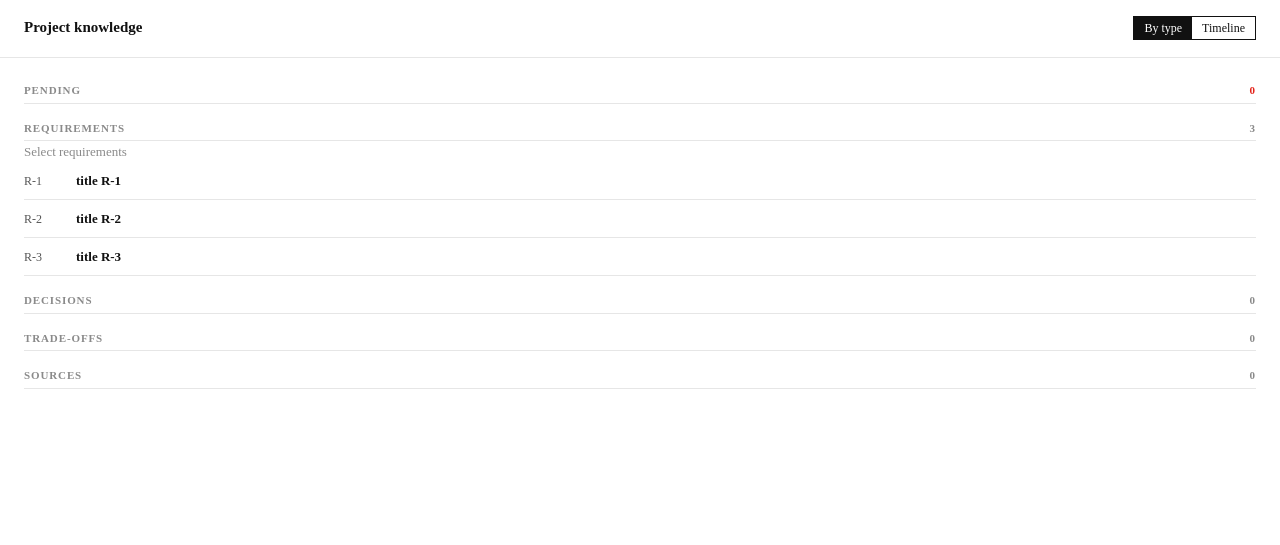
KnowledgePanel › selecting two requirements generates one package
This screenshot has width=1280, height=545.
Click the button "Select requirements". click: (75, 152)
box: [24,142,127,162]
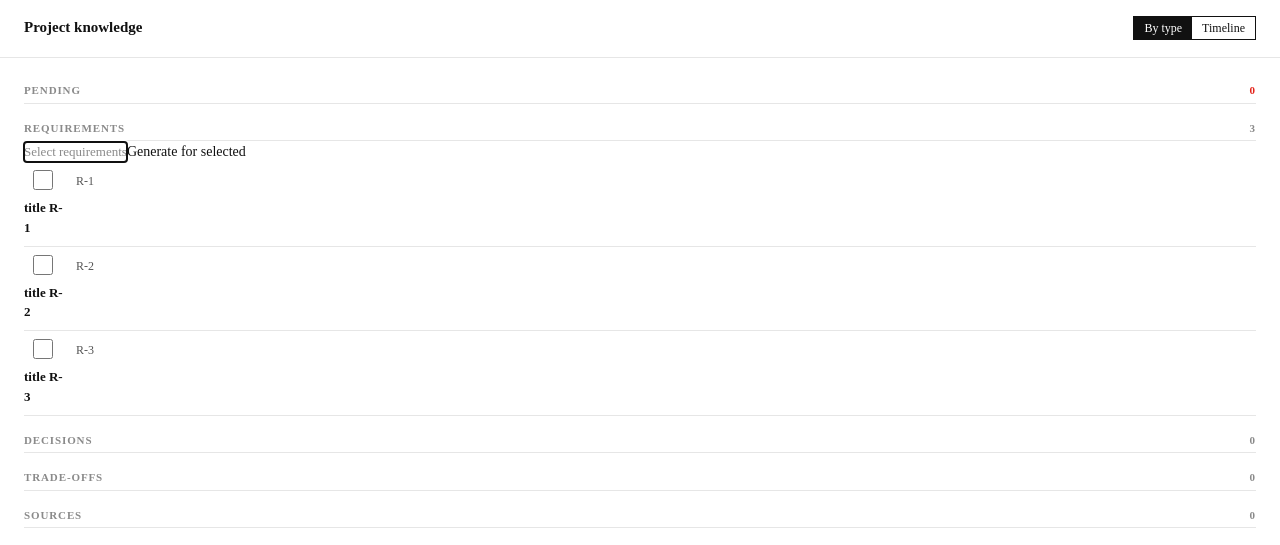
Click the checkbox named "R-3". click: (43, 349)
box: [24,339,62,359]
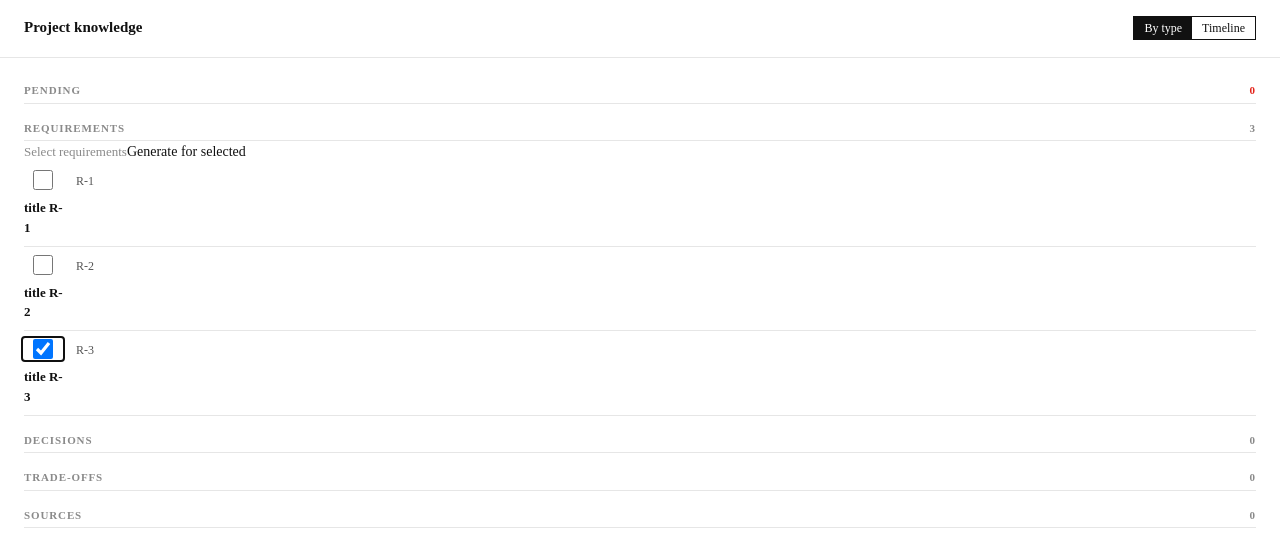
Click the checkbox named "R-1". click: (43, 180)
box: [24,170,62,190]
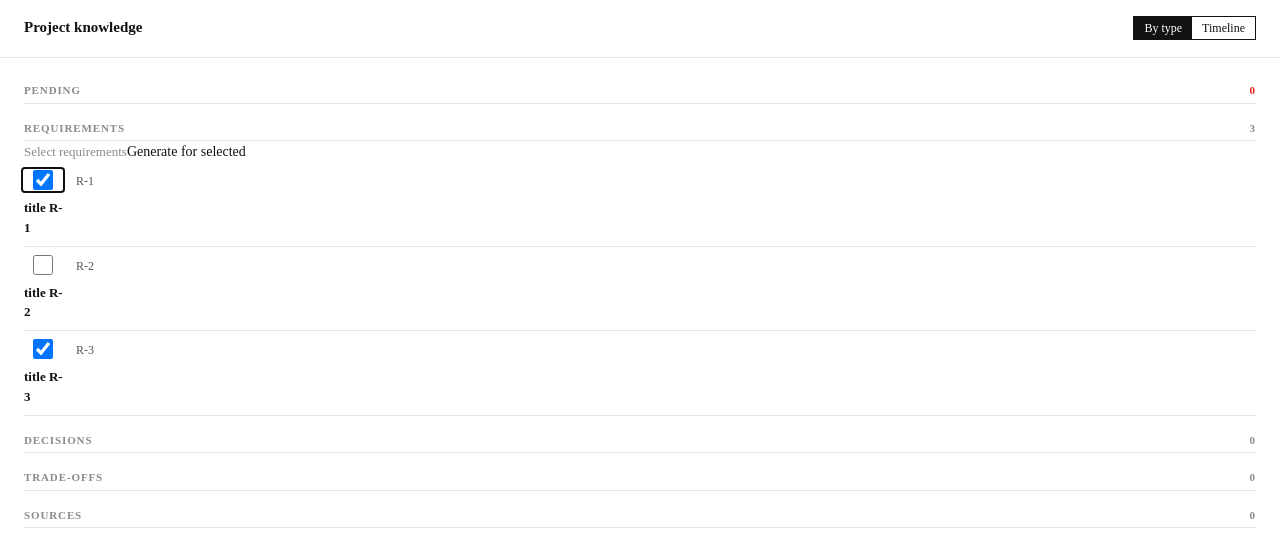
Click the button "Generate for selected". click: (186, 152)
box: [127,141,246,162]
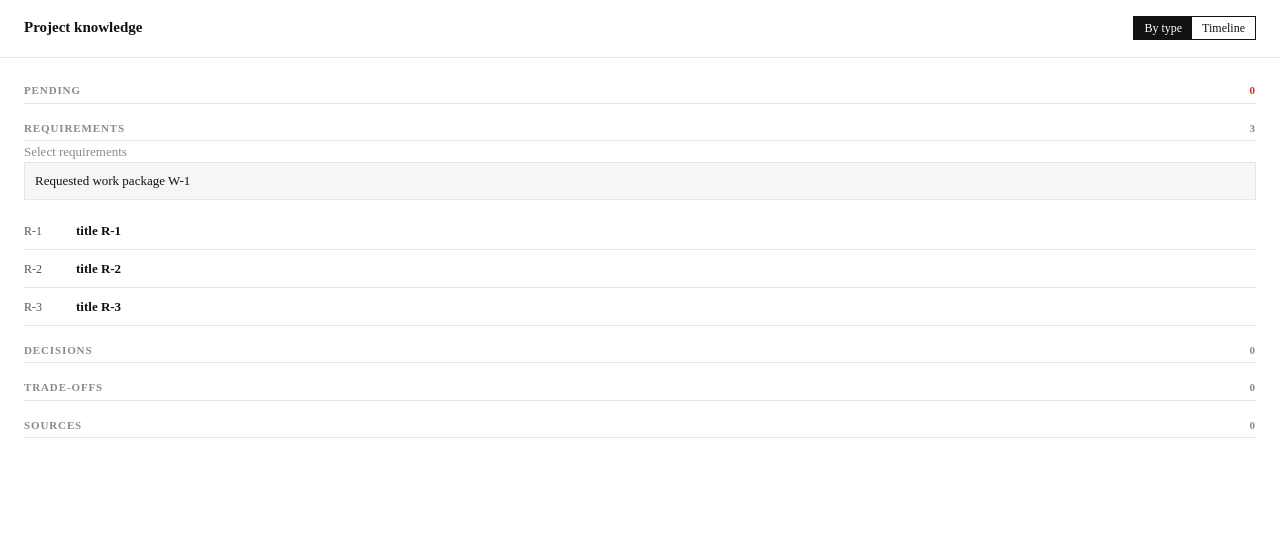
Expected: the text "Requested work package W-1" is shown, [24,162,1256,200]
